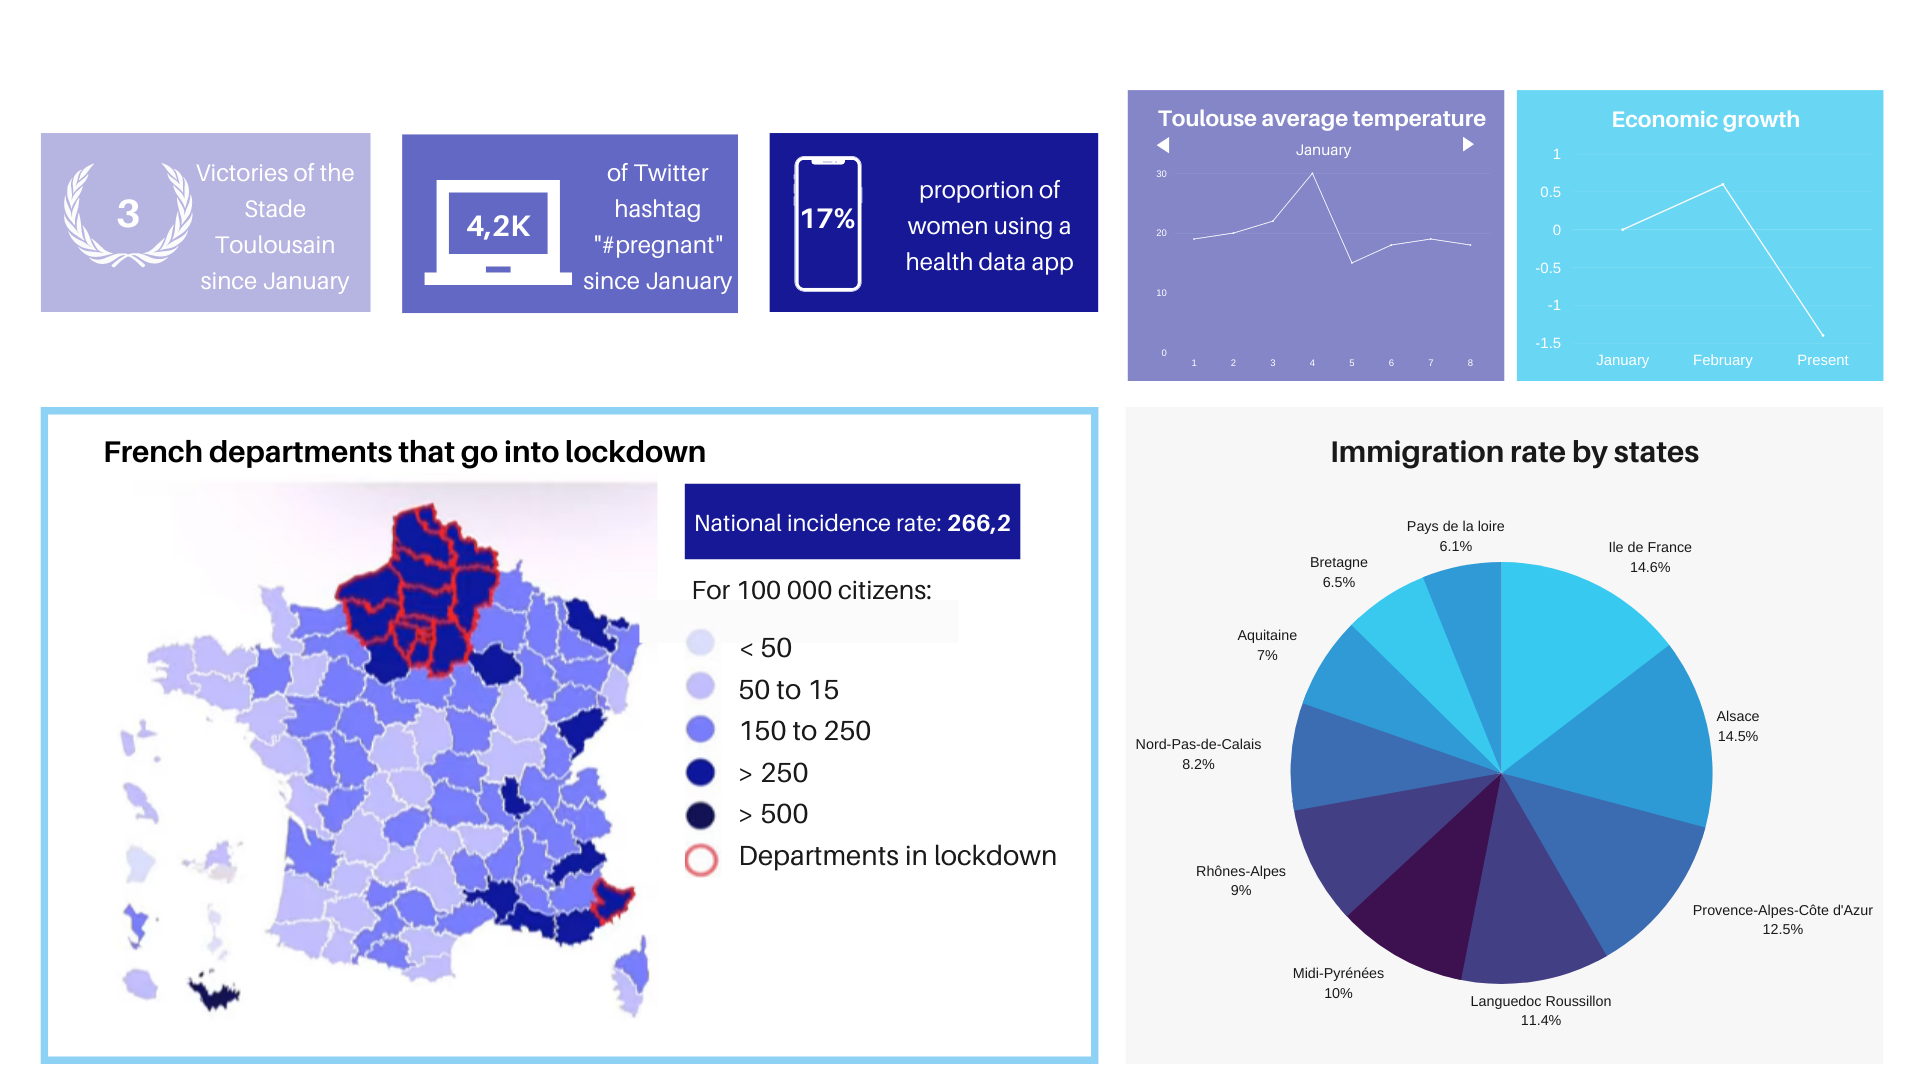

What the dashboard file says about the page in this screenshot:
{"tool":"powerbi","page":{"name":"Page 1","canvas":[1280,720],"ordinal":0},"visuals":[{"type":"pieChart","title":"Immigration rate by state","fields":{"Category":["final.States"],"Y":["Sum(final.Immigration rate)"]},"box":[862.8,224.8,417.2,483.9],"z":0},{"type":"lineChart","title":"Daily average temperature in Toulouse","fields":{"Category":["final.Days"],"Y":["Sum(final.Evolution of daily average temperature in Toulouse in january)"]},"box":[429.8,477,417.1,232.1],"z":1000},{"type":"card","title":"Social media","fields":{"Values":["Sum(final.Number of Twitter hashtags \"#pregnancyannouncement\" since January)"]},"box":[431.6,25.4,417.1,167.8],"z":2000},{"type":"card","title":"Sporting victories","fields":{"Values":["Sum(final.Victories of the Stade Toulousain since January)"]},"box":[0,25.4,417.1,167.8],"z":3000},{"type":"barChart","title":"National incidence rate by department","fields":{"Category":["final.Departments"],"Y":["Sum(final.National incidence rate)"]},"box":[0,224.8,417.2,483.9],"z":4000},{"type":"lineChart","title":"Economic growth","fields":{"Category":["final.Months"],"Y":["Sum(final.Economic growth)"]},"box":[429.8,224.9,418.9,216.7],"z":5000},{"type":"card","title":"Health apps","fields":{"Values":["Sum(final.French women using a health data app)"]},"box":[863.3,25.4,417.1,167.8],"z":6000},{"type":"textbox","box":[431.6,25.4,142.4,47.2],"z":7000},{"type":"textbox","box":[863.3,25.4,142.4,47.2],"z":8000},{"type":"textbox","box":[0,25.4,182.3,47.2],"z":9000}]}

Visuals, with their boxes in screenshot pixels (x1, y1, x2, y2), scaled from the page's 1280x720 canvas onto the 1920x1080 screenshot:
"Immigration rate by state" pieChart: Rect(1294, 337, 1919, 1063)
"Daily average temperature in Toulouse" lineChart: Rect(645, 716, 1270, 1064)
"Social media" card: Rect(647, 38, 1273, 290)
"Sporting victories" card: Rect(0, 38, 626, 290)
"National incidence rate by department" barChart: Rect(0, 337, 626, 1063)
"Economic growth" lineChart: Rect(645, 337, 1273, 662)
"Health apps" card: Rect(1295, 38, 1919, 290)
textbox: Rect(647, 38, 861, 109)
textbox: Rect(1295, 38, 1509, 109)
textbox: Rect(0, 38, 273, 109)
